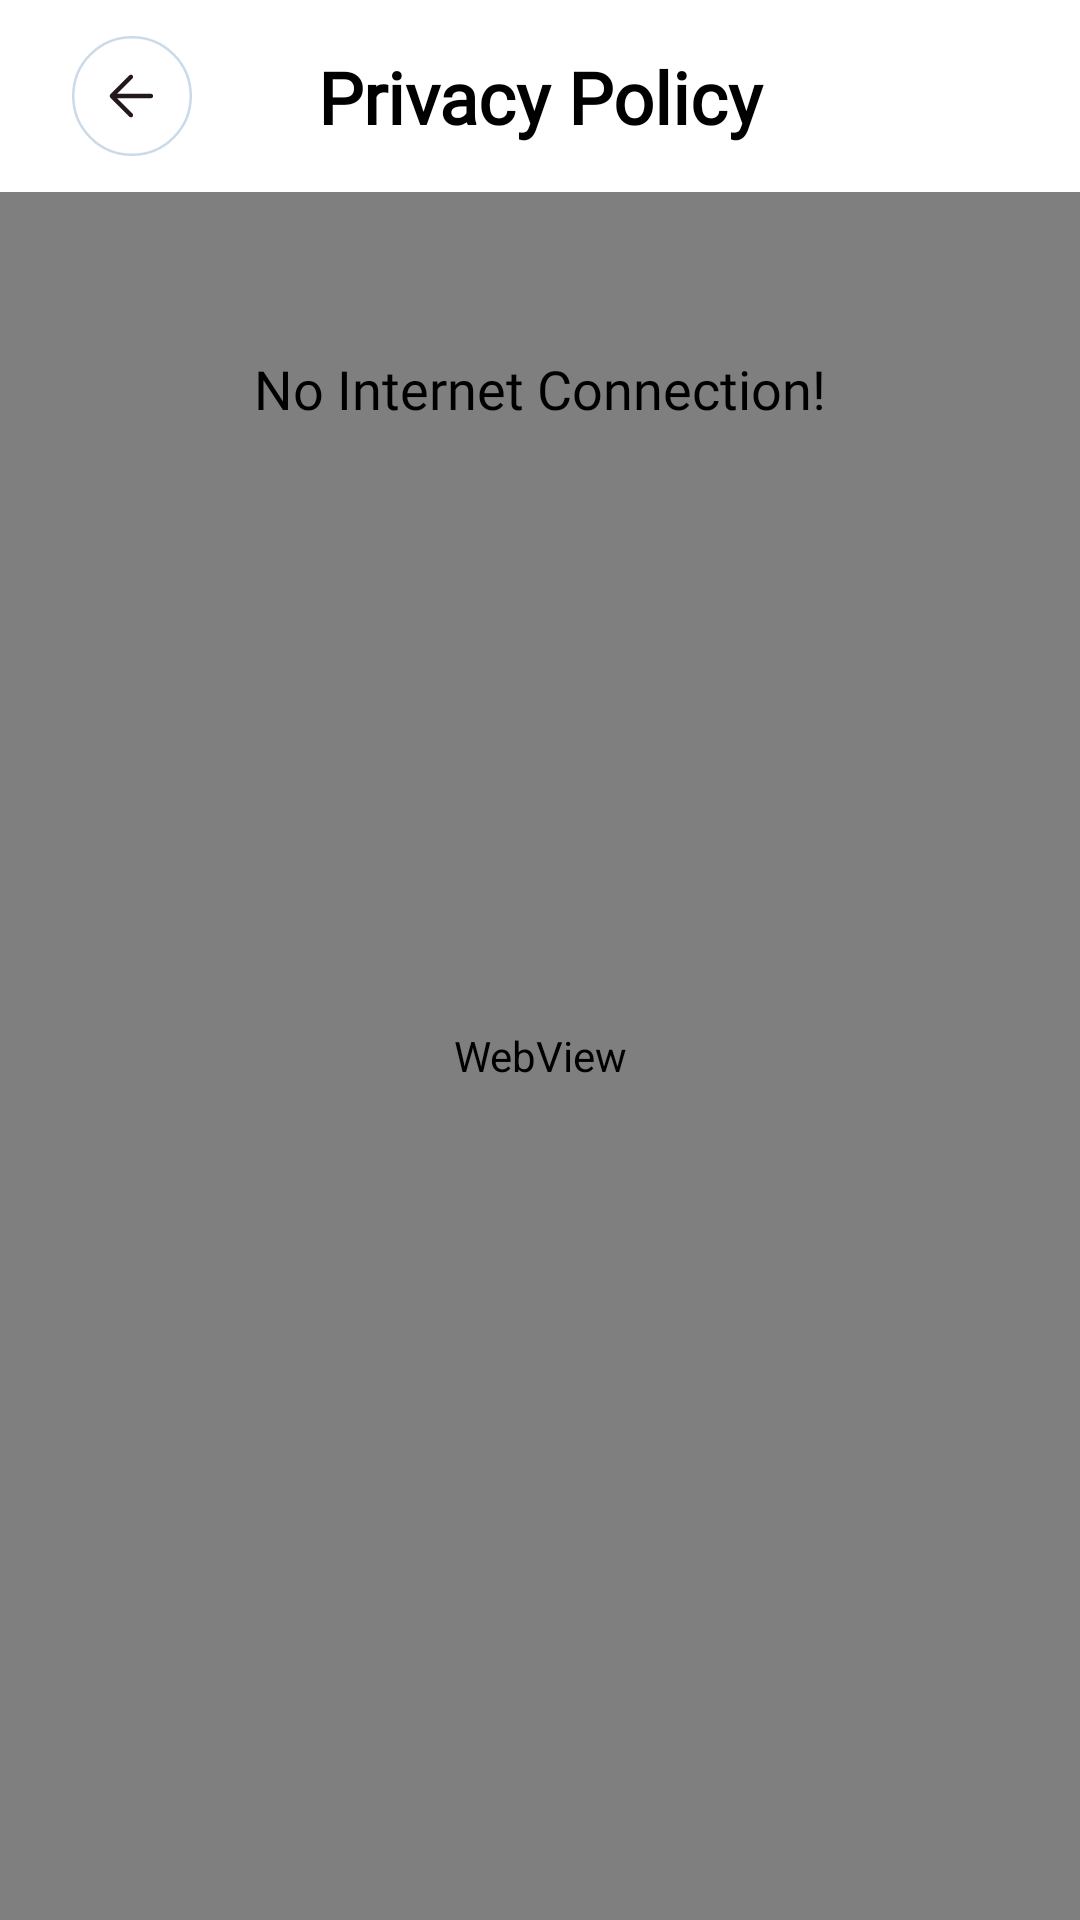

Icons on this 1080px x 1920px Android screen, each with the point to tap as point (x, y):
back round: point (132, 96)
